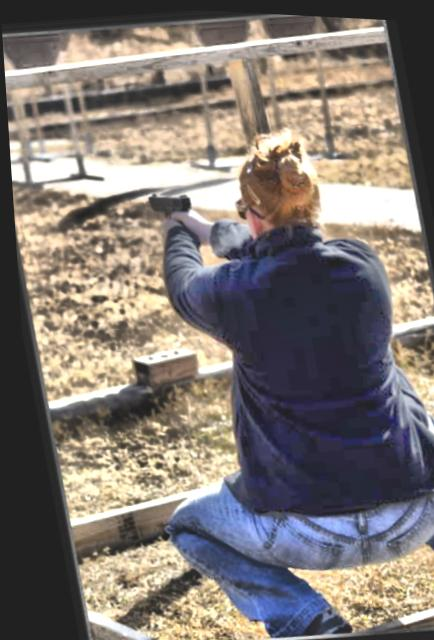pistol: (141, 184, 199, 249)
